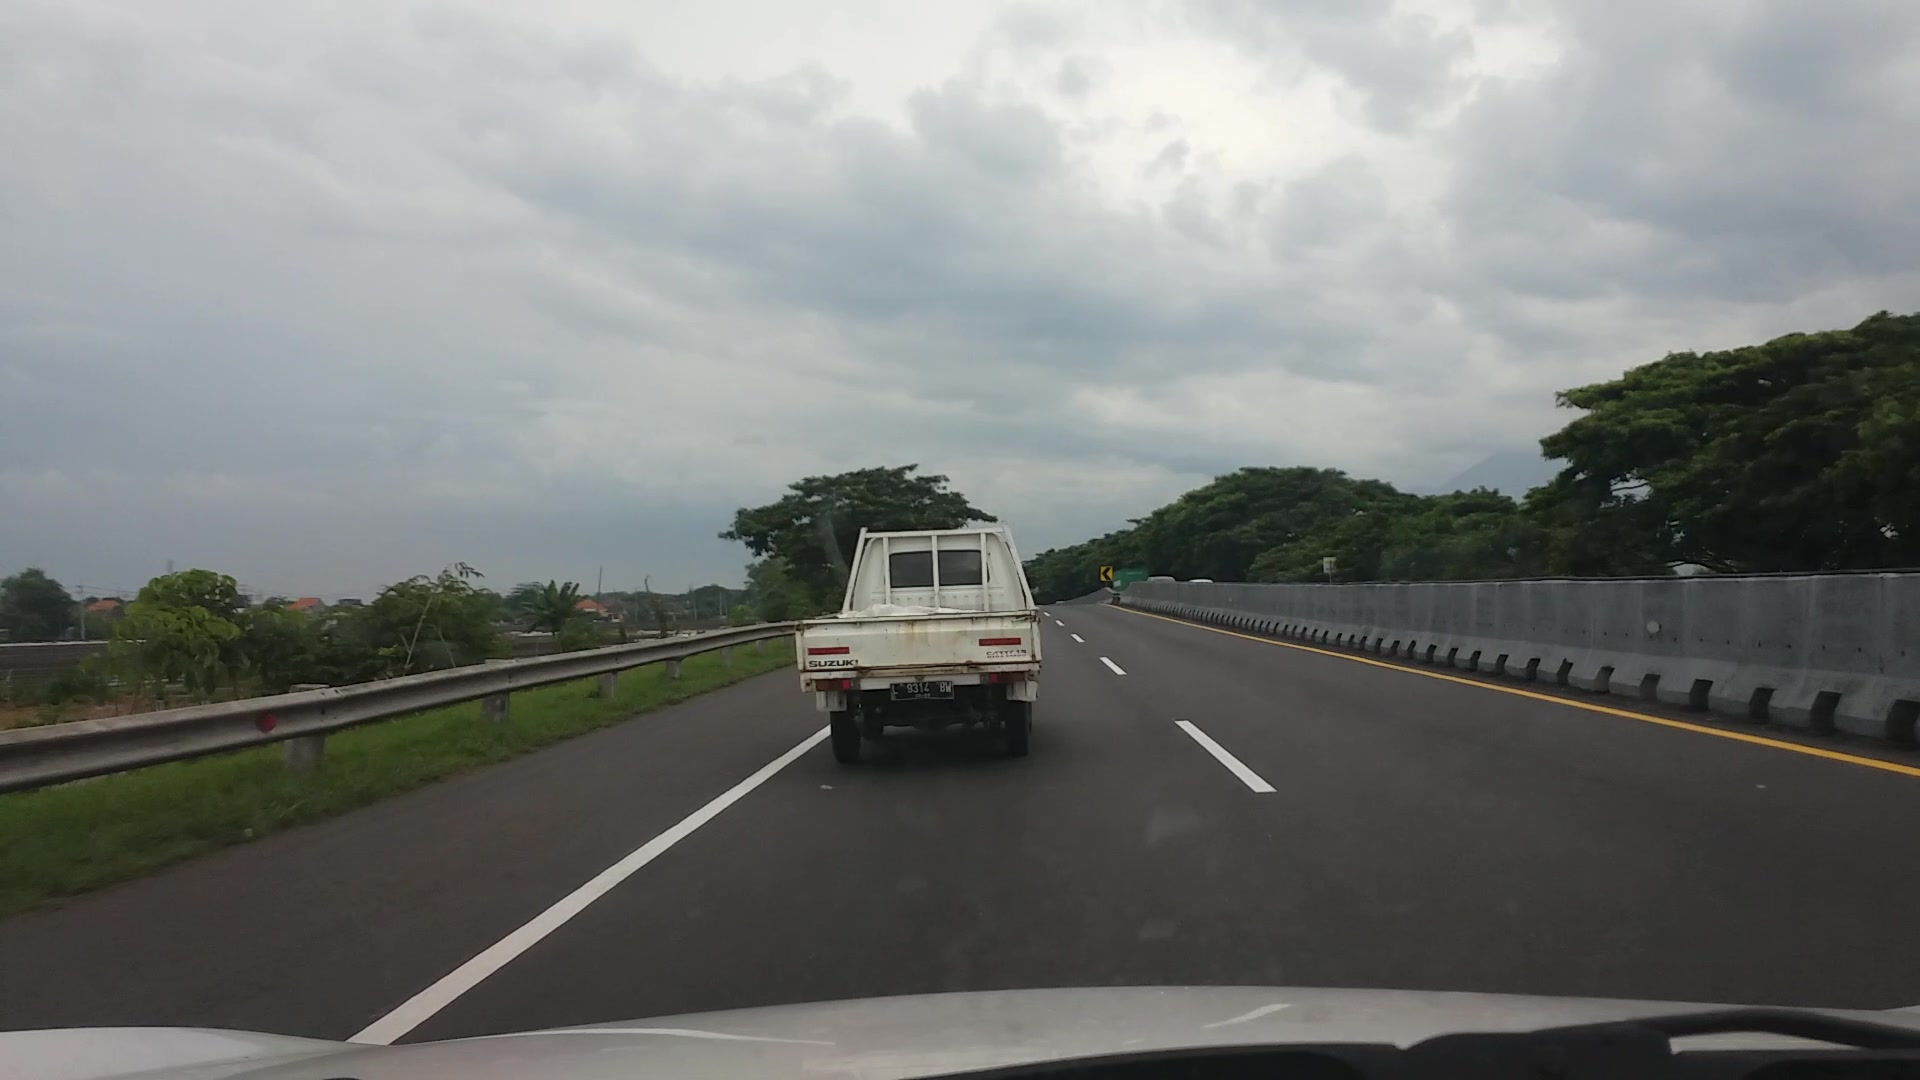plate_positive: (890, 680, 953, 702)
